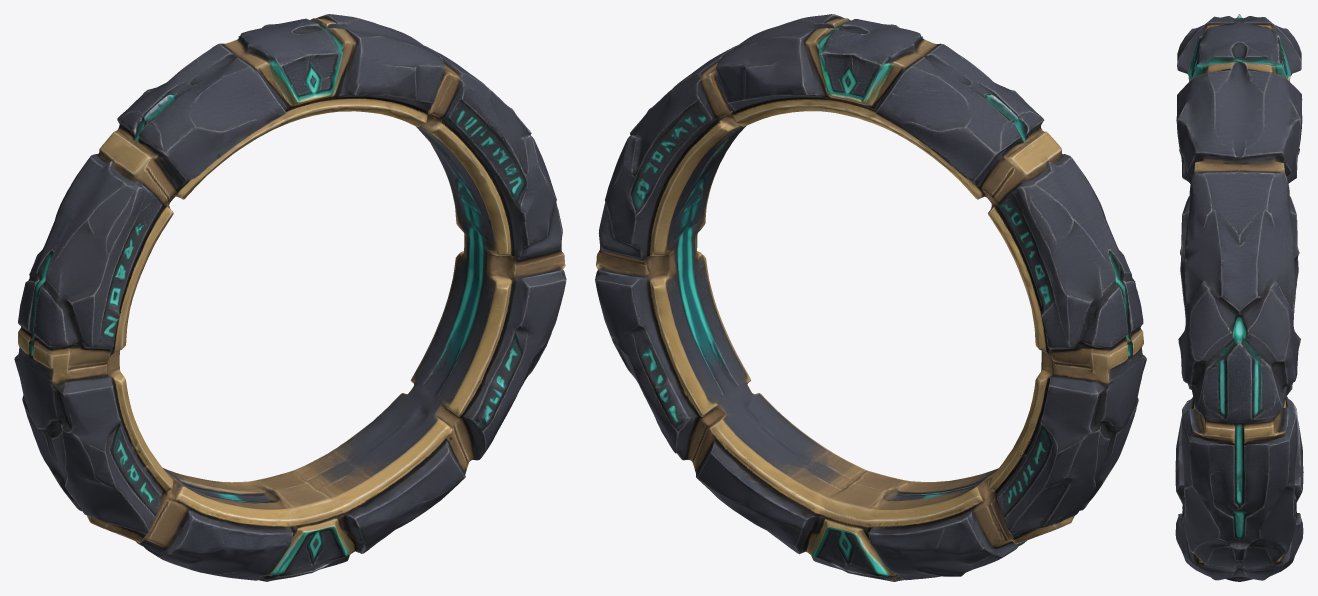
File: ancestral-portal.glb
3 renders of one model, left to right at view 1: azimuth 30°, elevation 25°; view 2: azimuth 150°, elevation 25°; view 3: azimuth 270°, elevation 25°, orthographic. The views are drawn at different scales.
Parts seen in each view (by area): view 1: input; view 2: input; view 3: input.
Boxes of the visible parts, x1,y1,x2,y2 form: input: (14,14,566,581); input: (595,14,1146,581); input: (1175,14,1303,581).
Bounding box in the file's own units: 2 × 1.97 × 0.4367.
Materials: 1 (1 with a texture image).
